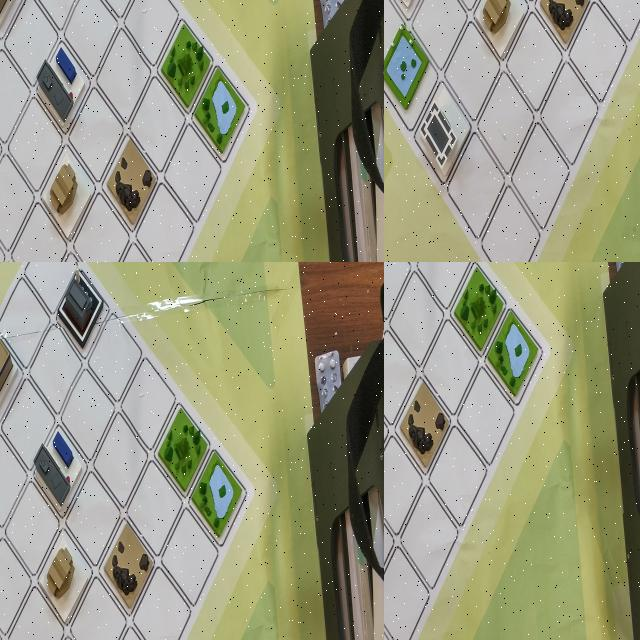bus_stop: (31, 30, 103, 138), (12, 349, 67, 423), (458, 0, 511, 53), (384, 278, 411, 372)
factory: (9, 211, 97, 262), (513, 0, 574, 47), (384, 262, 414, 311)
fish_pool: (148, 358, 208, 417), (384, 445, 413, 541), (115, 0, 176, 35), (384, 0, 409, 41)
forest: (186, 506, 252, 606), (0, 77, 43, 207), (451, 262, 506, 359), (583, 0, 635, 48)
gogo_shop: (134, 0, 203, 70), (11, 422, 68, 506), (384, 349, 411, 431), (384, 0, 421, 43)
research_build: (77, 397, 141, 500), (384, 37, 416, 143), (384, 502, 415, 611), (56, 0, 119, 49)
restaurant: (139, 82, 221, 238), (151, 399, 215, 503), (422, 0, 484, 53), (384, 262, 411, 313)
silicate_rock: (21, 542, 93, 640), (392, 372, 458, 472), (495, 0, 559, 92), (0, 0, 36, 77)
volunteer_center: (139, 551, 213, 640), (8, 0, 74, 55), (384, 377, 413, 488), (438, 0, 489, 59)
wet_land: (488, 302, 540, 402), (0, 48, 42, 160), (0, 550, 39, 640), (609, 0, 640, 80)
